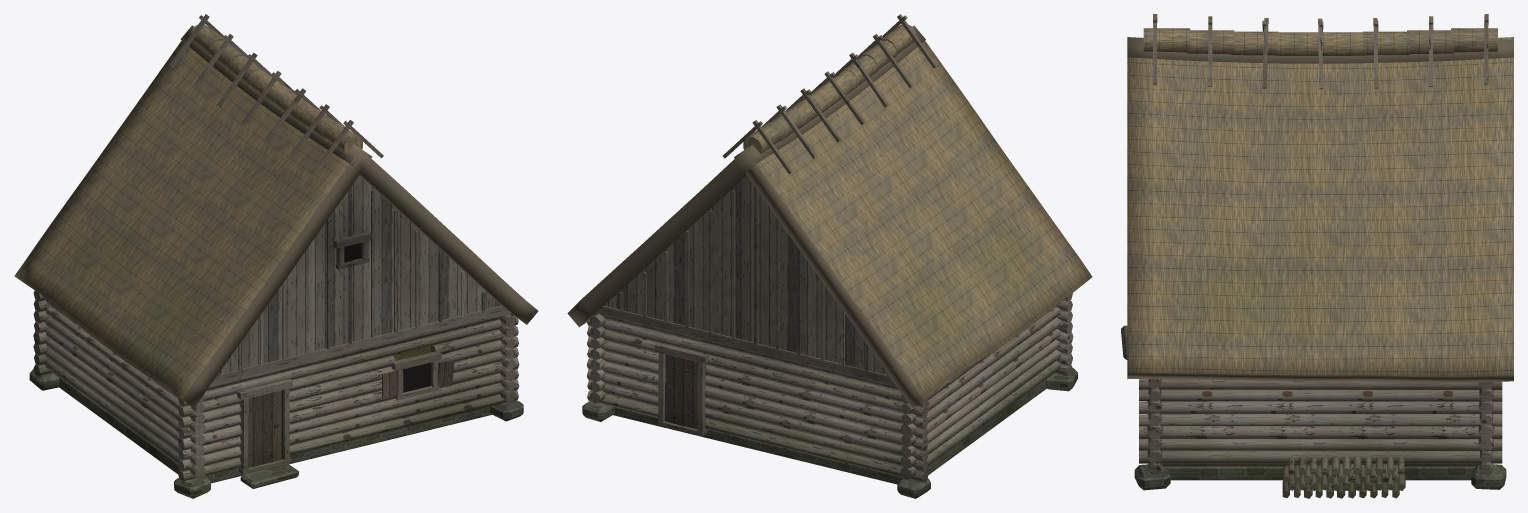
Rendered from craft_boda.glb.
The picture shows the model from 3 angles, left to right: view 1: azimuth 30°, elevation 25°; view 2: azimuth 150°, elevation 25°; view 3: azimuth 270°, elevation 25°; orthographic projection. The views are drawn at different scales.
Visible parts, largest first — view 1: CraftBodaReedThatch, CraftBodaLog, CraftBodaBoards, CraftBodaOakWeathered, CraftBodaLimestonePlinth, CraftBodaOakPlank, CraftBodaRecess; view 2: CraftBodaReedThatch, CraftBodaLog, CraftBodaBoards, CraftBodaOakWeathered, CraftBodaLimestonePlinth, CraftBodaOakPlank; view 3: CraftBodaReedThatch, CraftBodaLog, CraftBodaLimestonePlinth, CraftBodaOakWeathered, CraftBodaMossCaulk.
Part boxes in pixels (left/top/right/bottom): CraftBodaReedThatch: left=14, top=24, right=538, bottom=407; CraftBodaLog: left=33, top=290, right=519, bottom=481; CraftBodaBoards: left=217, top=175, right=501, bottom=376; CraftBodaOakWeathered: left=169, top=14, right=509, bottom=474; CraftBodaLimestonePlinth: left=29, top=369, right=523, bottom=498; CraftBodaOakPlank: left=248, top=360, right=454, bottom=467; CraftBodaRecess: left=282, top=243, right=431, bottom=458; CraftBodaReedThatch: left=567, top=24, right=1092, bottom=407; CraftBodaLog: left=586, top=293, right=1073, bottom=482; CraftBodaBoards: left=604, top=176, right=889, bottom=376; CraftBodaOakWeathered: left=597, top=14, right=937, bottom=436; CraftBodaLimestonePlinth: left=582, top=368, right=1077, bottom=498; CraftBodaOakPlank: left=666, top=354, right=697, bottom=429; CraftBodaReedThatch: left=1127, top=28, right=1513, bottom=382; CraftBodaLog: left=1139, top=378, right=1502, bottom=498; CraftBodaLimestonePlinth: left=1121, top=325, right=1506, bottom=490; CraftBodaOakWeathered: left=1153, top=14, right=1488, bottom=89; CraftBodaMossCaulk: left=1161, top=401, right=1479, bottom=466.
Bounding box in the file's own units: 9.57 × 8.39 × 7.83.
Materials: 9 (9 with a texture image).
